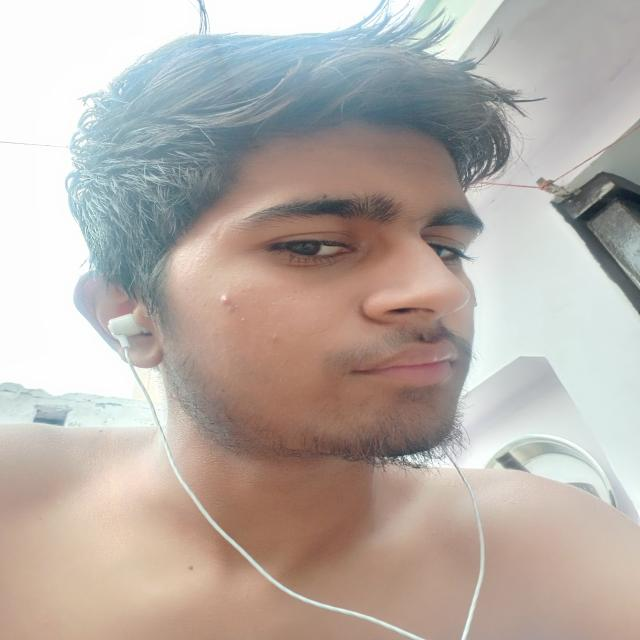Acne: (216, 291, 235, 305), (222, 305, 240, 315), (244, 282, 256, 294), (238, 315, 247, 326), (274, 332, 280, 348), (253, 297, 261, 308)
Wrinkles: (305, 143, 435, 149), (338, 160, 432, 168)
